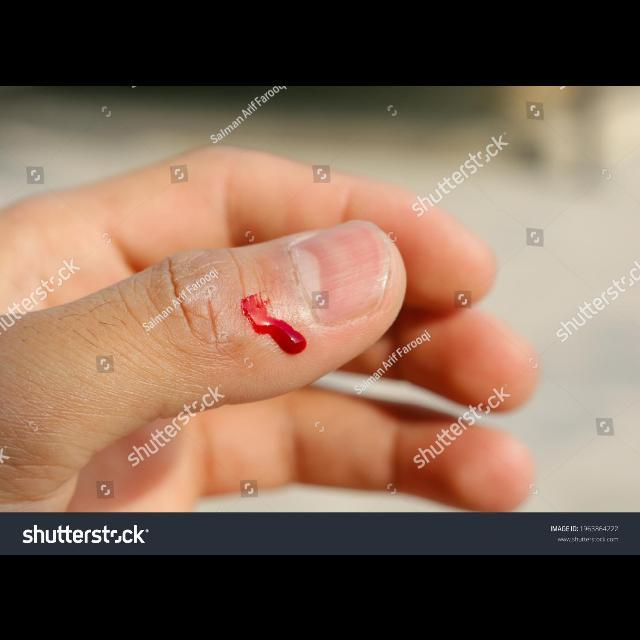blood: (241, 293, 307, 354)
